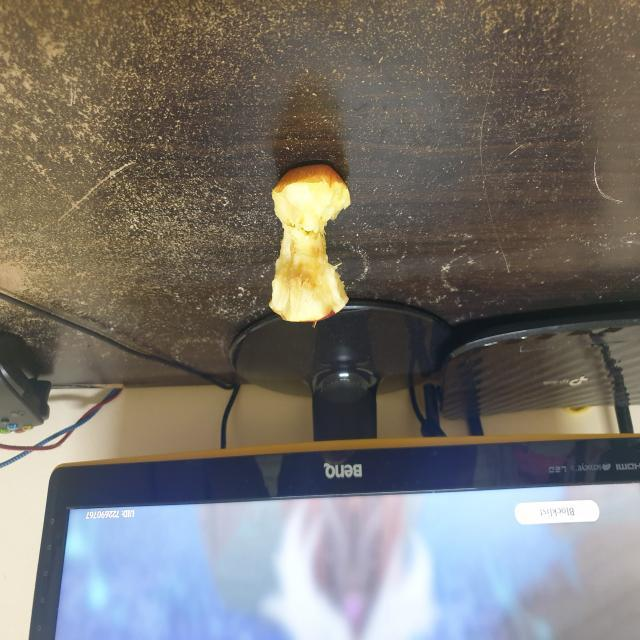apple: (259, 165, 351, 336)
